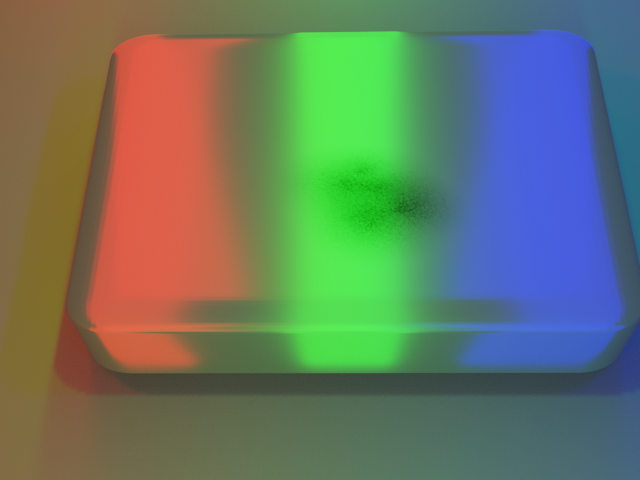stain: (266, 146, 504, 283), (268, 118, 481, 240)
